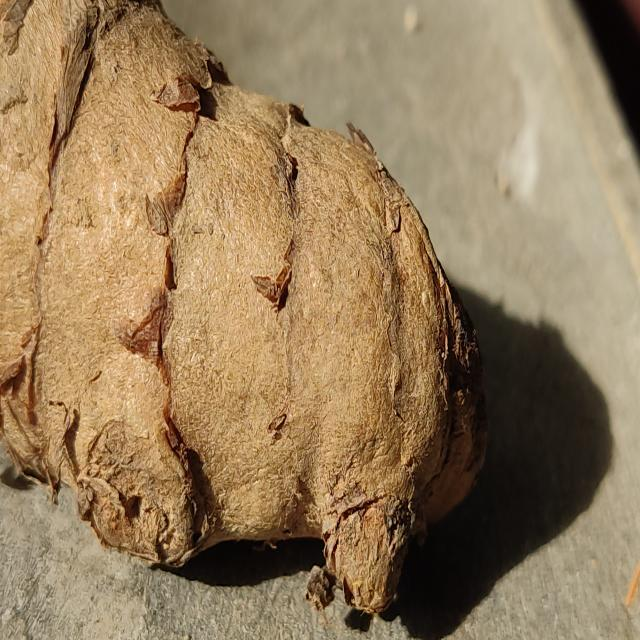ginger: (7, 0, 474, 585)
